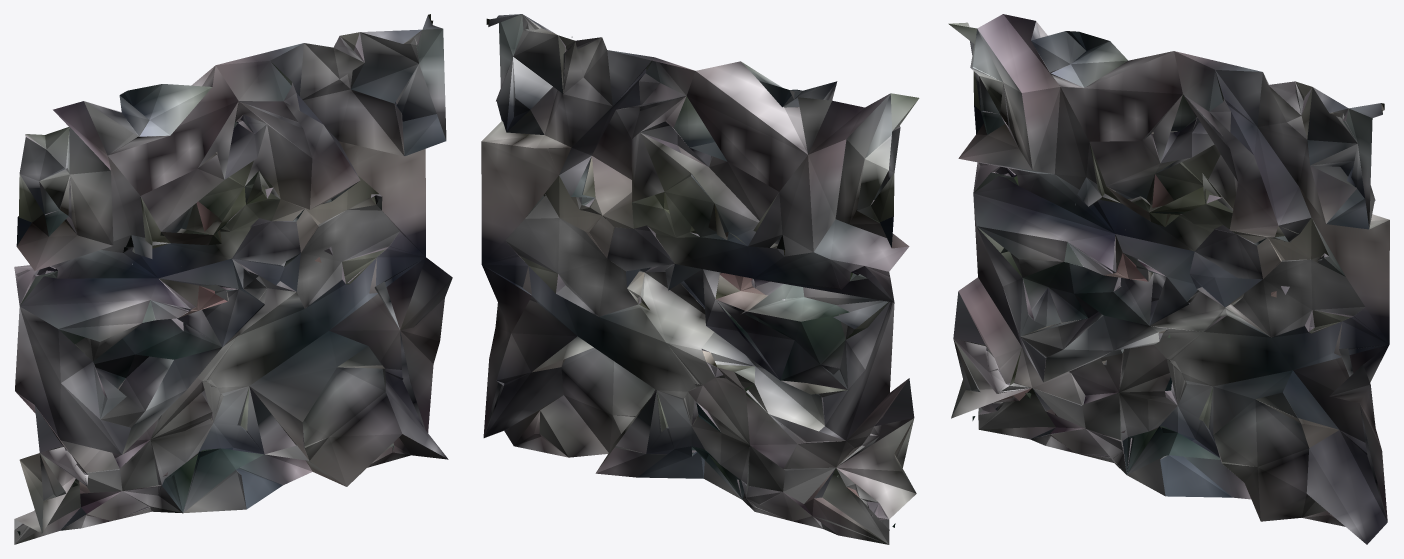
Rendered from Tile_+031_+021_L13.obj.
The picture shows the model from 3 angles, left to right: view 1: azimuth 30°, elevation 25°; view 2: azimuth 150°, elevation 25°; view 3: azimuth 330°, elevation 25°; orthographic projection.
Size of the model in its own units: 250 by 250 by 39.4.
1 material, 1 textured.
